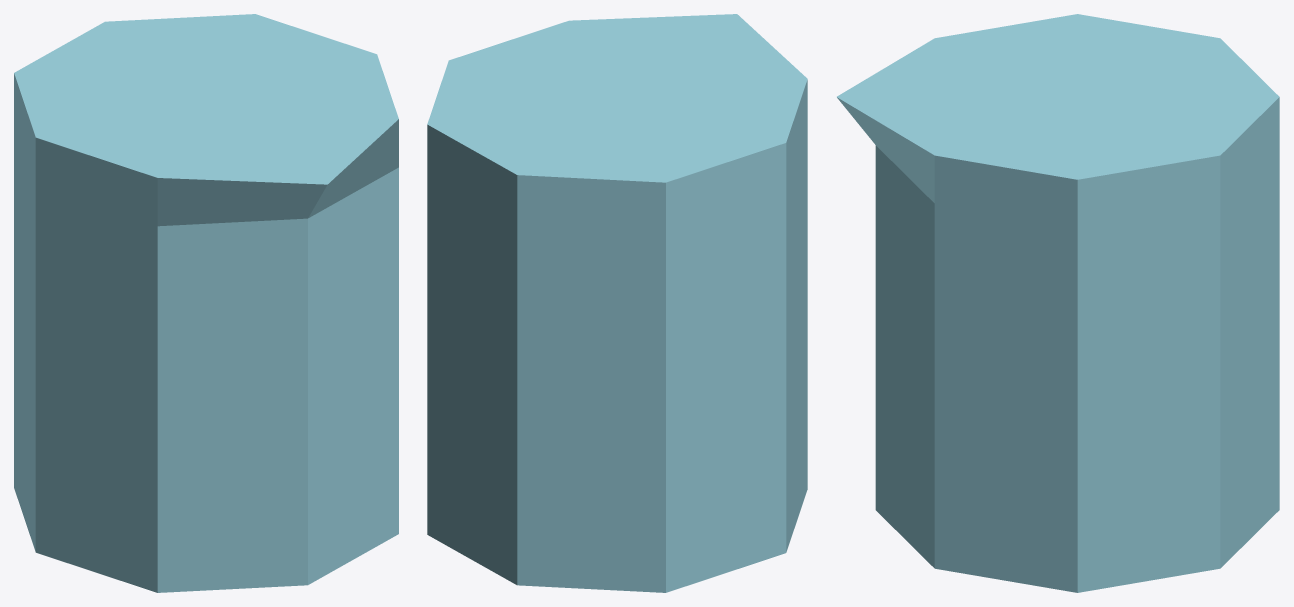
Rendered from Elermeyer.fbx.
3 views of the same model, side by side, from view 1: azimuth 30°, elevation 25°; view 2: azimuth 150°, elevation 25°; view 3: azimuth 270°, elevation 25° (orthographic).
Parts seen in each view (by area): view 1: Elermeyer; view 2: Elermeyer; view 3: Elermeyer.
Part boxes in pixels (x1,y1,x2,y2): Elermeyer: (14,14,398,592); Elermeyer: (427,14,807,592); Elermeyer: (837,14,1279,592).
Size of the model in its own units: 105 by 122 by 119.
